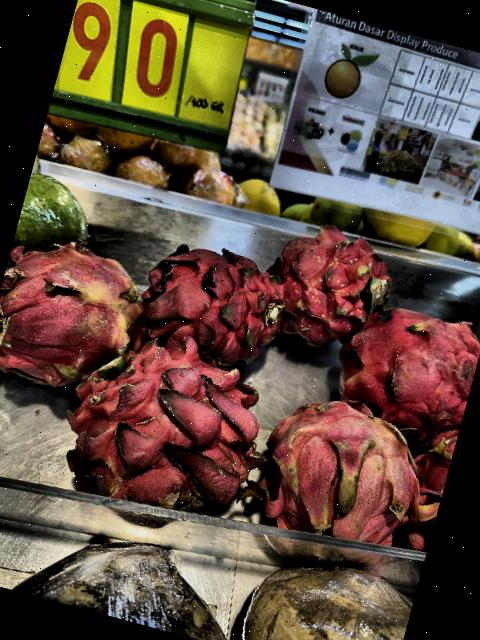buah-naga-belum-matang: (235, 379, 443, 575), (0, 225, 152, 399)
buah-naga-matang: (47, 323, 276, 524), (119, 224, 295, 376), (249, 208, 403, 354), (327, 288, 480, 433)
